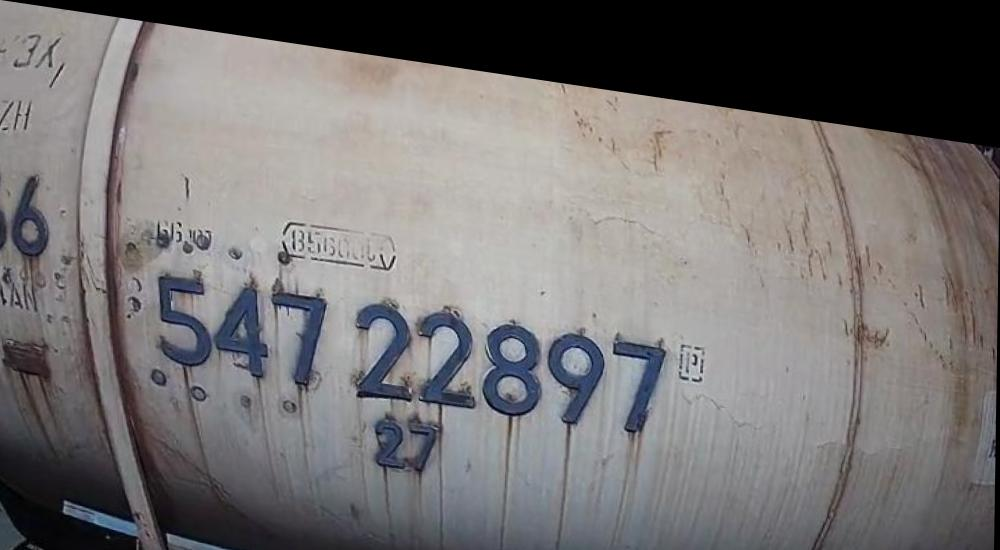Wagon-number: (151, 260, 674, 425)
